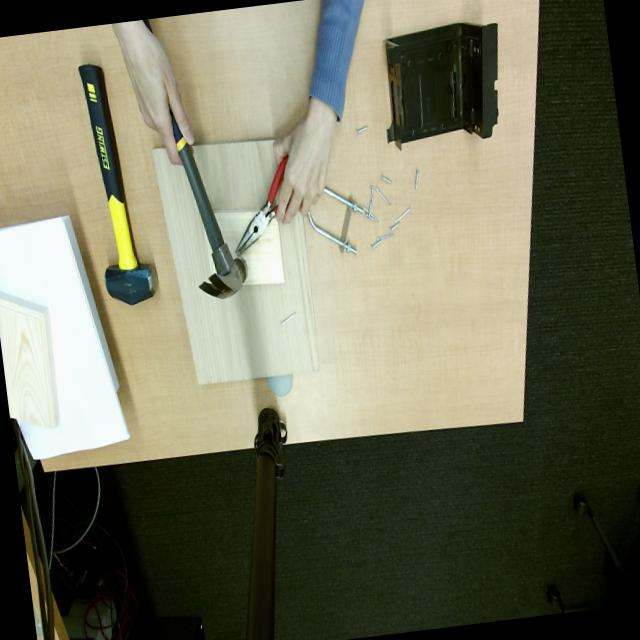hammer: (79, 65, 157, 304), (170, 108, 247, 298)
pliers: (236, 157, 287, 253)
